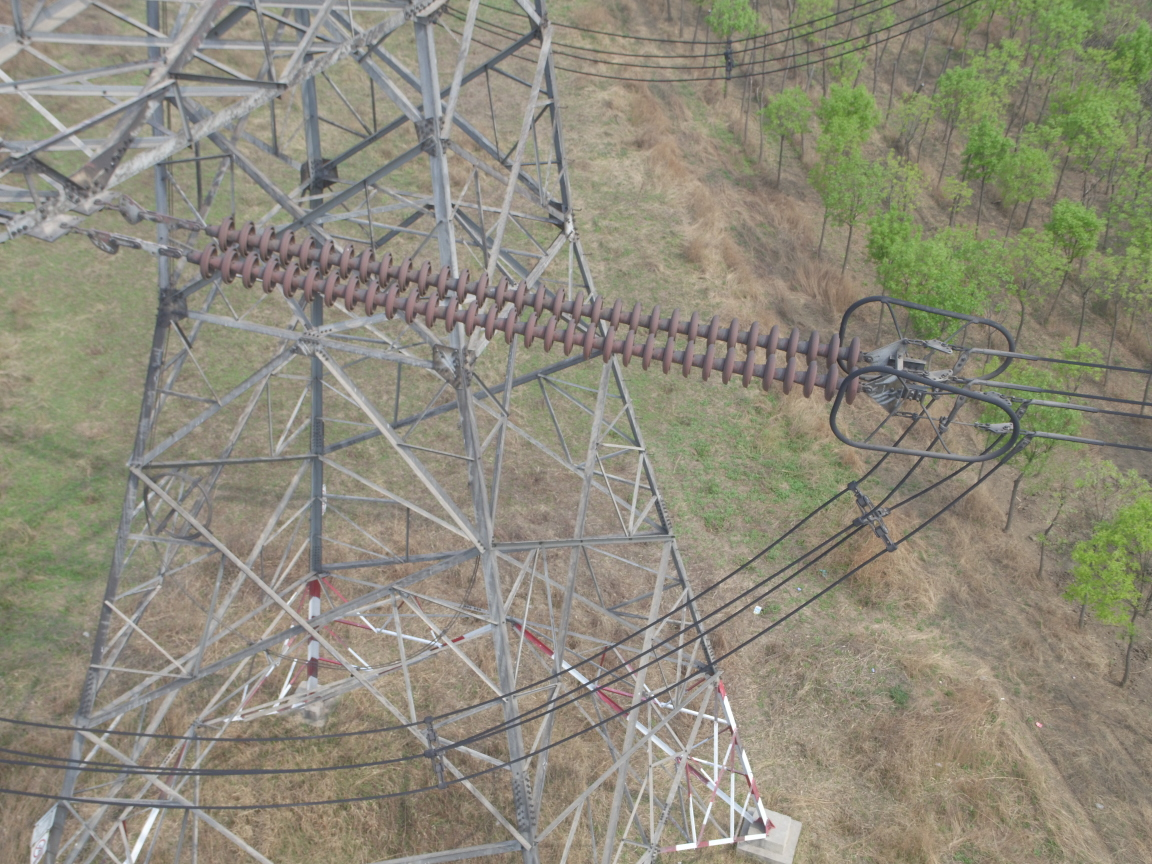insulator: (141, 214, 884, 410)
